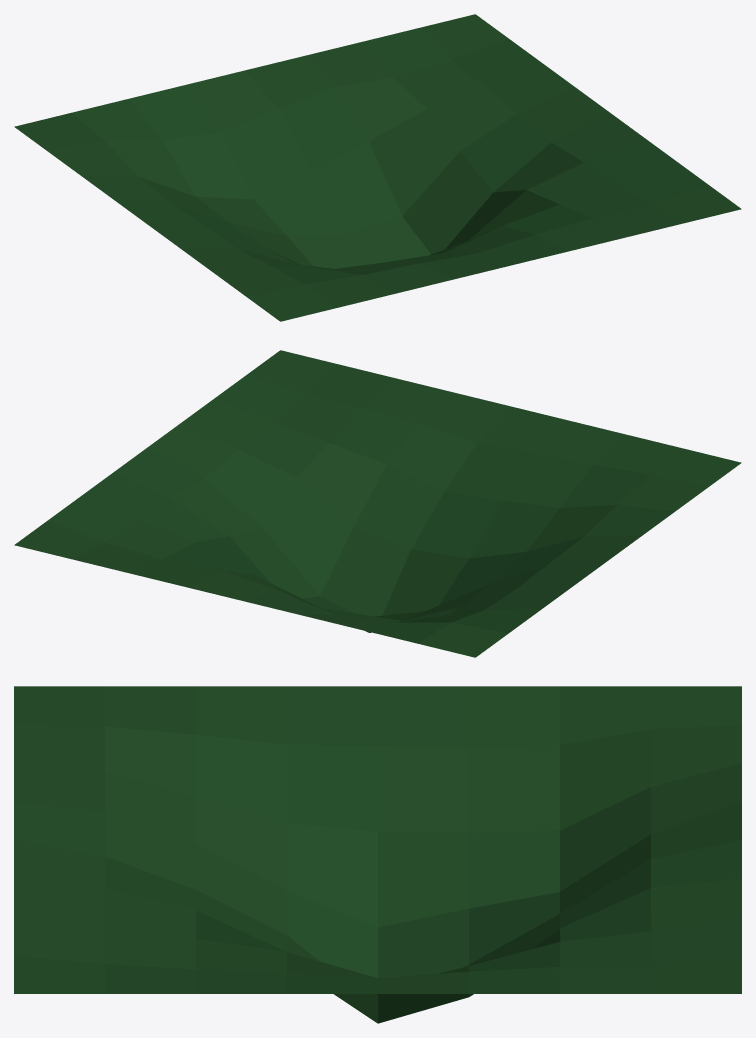
Rendered from Terrain_11_Dark_Green.fbx.
3 views of the same model, one above another, from view 1: azimuth 30°, elevation 25°; view 2: azimuth 150°, elevation 25°; view 3: azimuth 270°, elevation 25° (orthographic). The views are drawn at different scales.
Visible parts, largest first — view 1: Terrain_11_Dark_Green; view 2: Terrain_11_Dark_Green; view 3: Terrain_11_Dark_Green.
Part boxes in pixels (x1=…): Terrain_11_Dark_Green: x1=14, y1=14, x2=741, y2=321; Terrain_11_Dark_Green: x1=14, y1=350, x2=741, y2=657; Terrain_11_Dark_Green: x1=14, y1=686, x2=741, y2=1023.
Bounding box in the file's own units: 5000 × 1260 × 5000.
